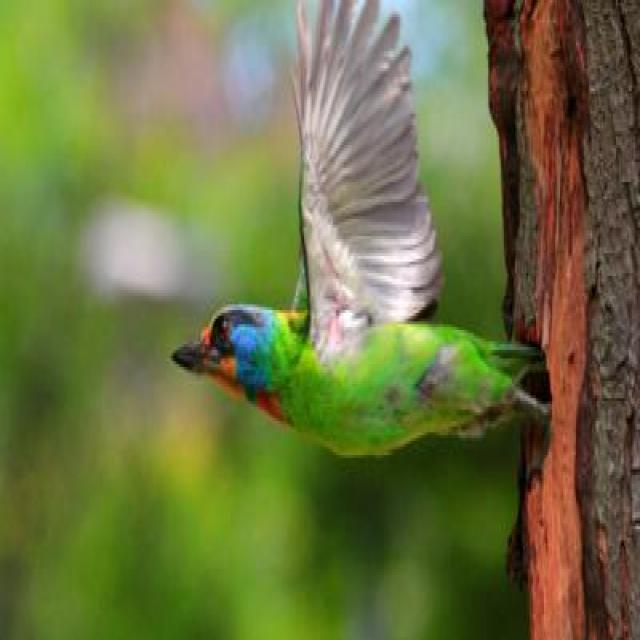birds: (158, 0, 556, 492)
